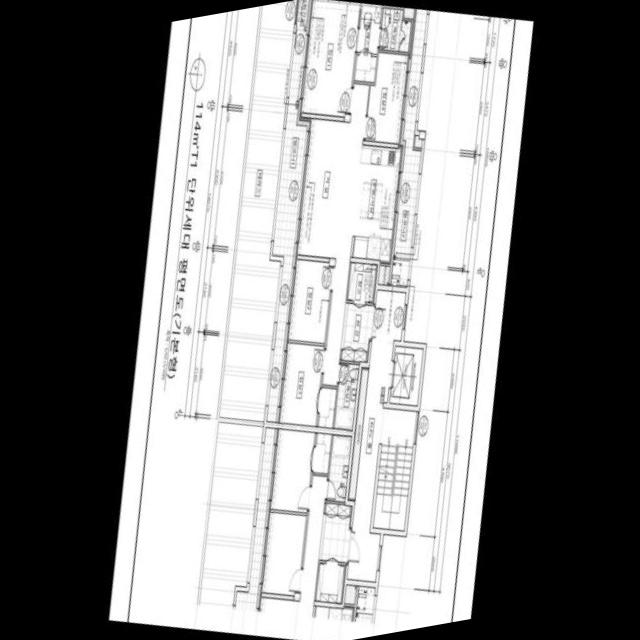background: (108, 0, 532, 640)
space_balconi: (265, 29, 306, 421), (389, 8, 426, 286)
space_bedroom: (299, 0, 359, 116), (363, 51, 408, 143), (277, 342, 323, 426), (286, 258, 331, 343)
space_dressroom: (356, 3, 381, 53), (317, 387, 335, 427), (353, 54, 375, 82)
space_elevator: (388, 345, 422, 405)
space_elevator_hall: (346, 289, 405, 581)
space_front: (339, 302, 373, 361)
space_kitchen: (351, 144, 401, 263)
space_living_room: (295, 83, 368, 385)
space_other: (347, 367, 367, 500), (346, 262, 376, 302), (377, 265, 389, 284), (402, 7, 414, 18), (413, 135, 421, 147)
space_outdoor_room: (295, 0, 308, 27)
space_staircase: (372, 408, 416, 530)
space_toilet: (333, 362, 358, 429), (378, 7, 410, 52)
